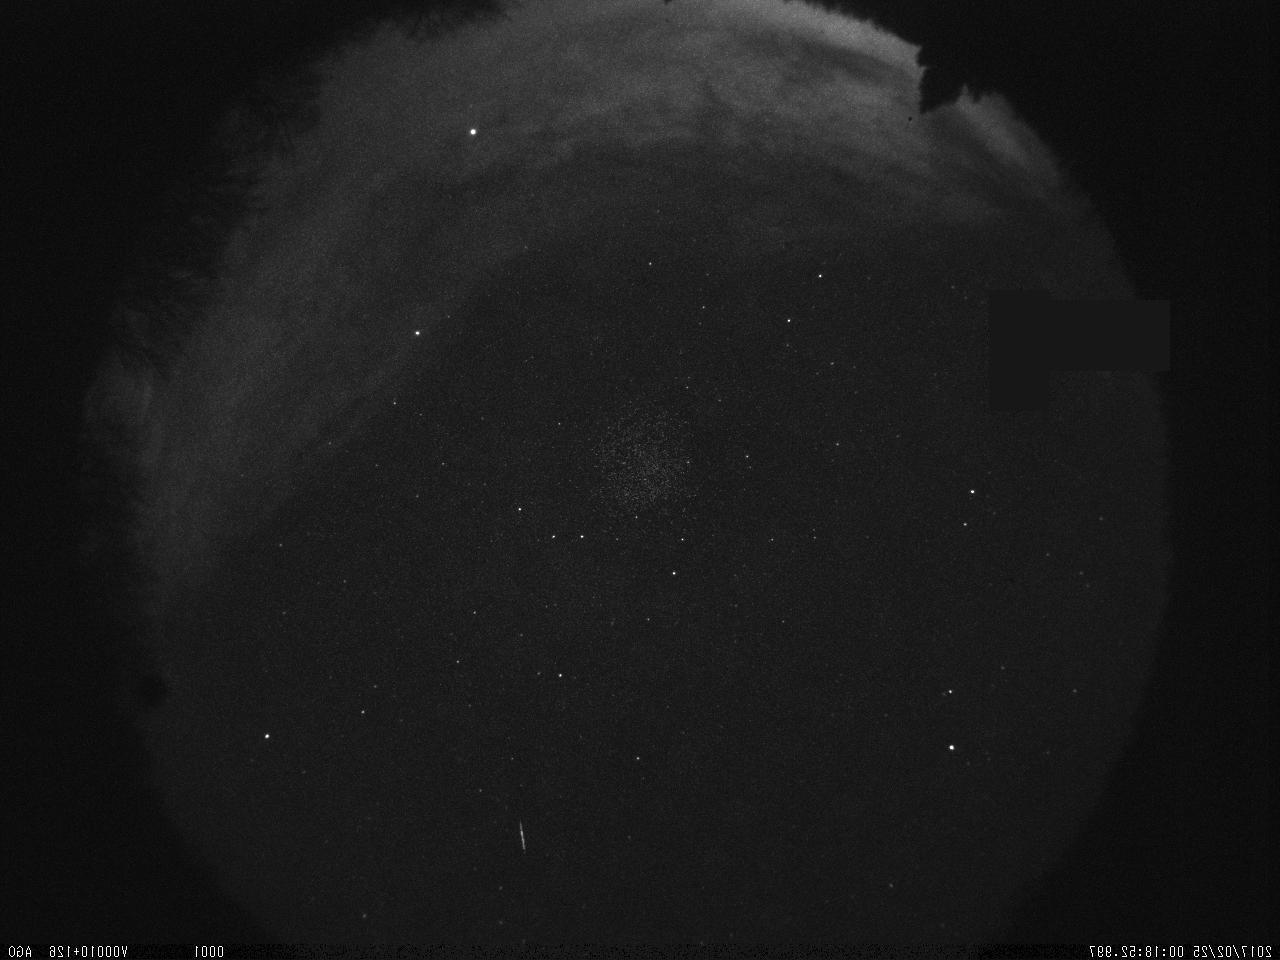meteor: (510, 815, 533, 859)
